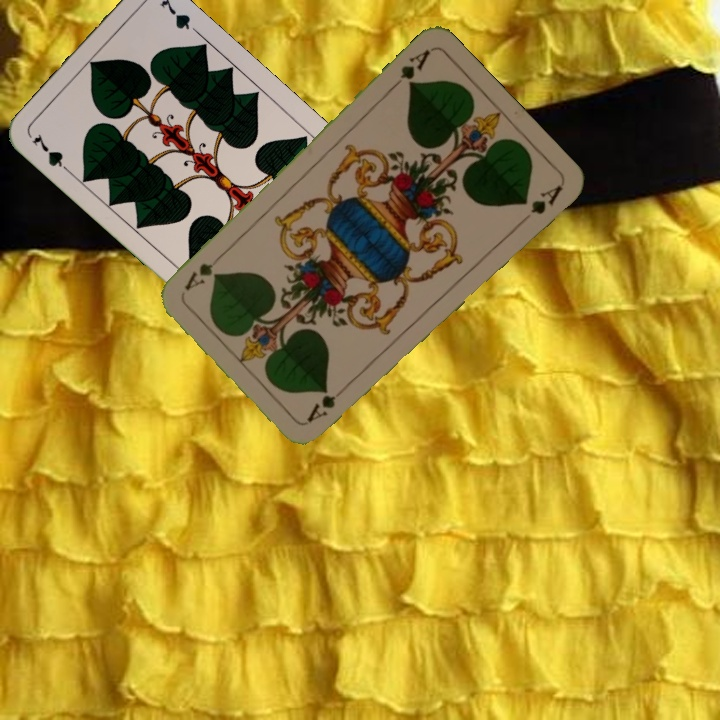G7: (28, 129, 76, 178)
GA: (387, 45, 433, 92), (303, 391, 339, 425)
